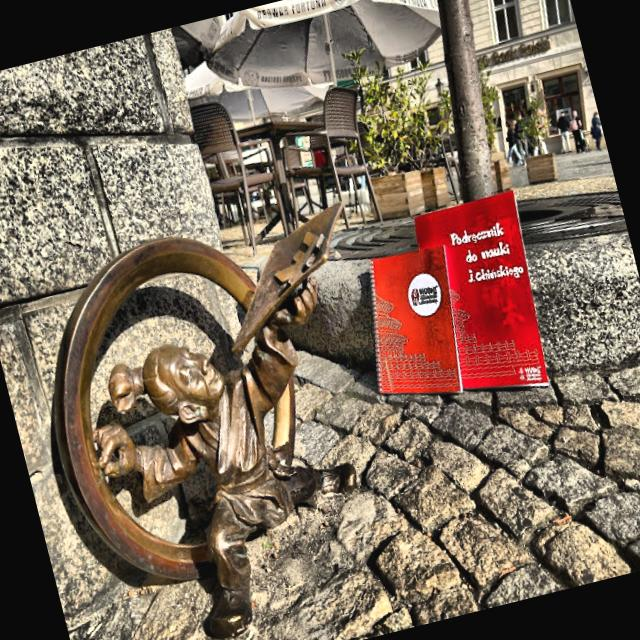TianTian: (55, 203, 356, 638)
